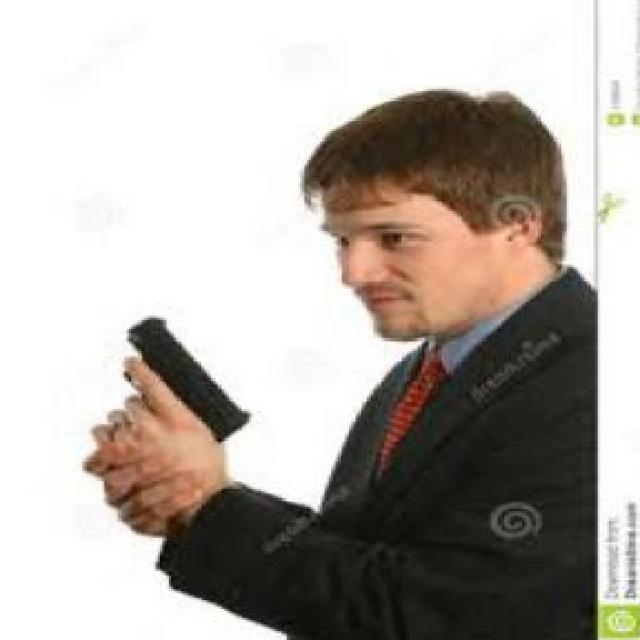pistol: (98, 311, 253, 459)
